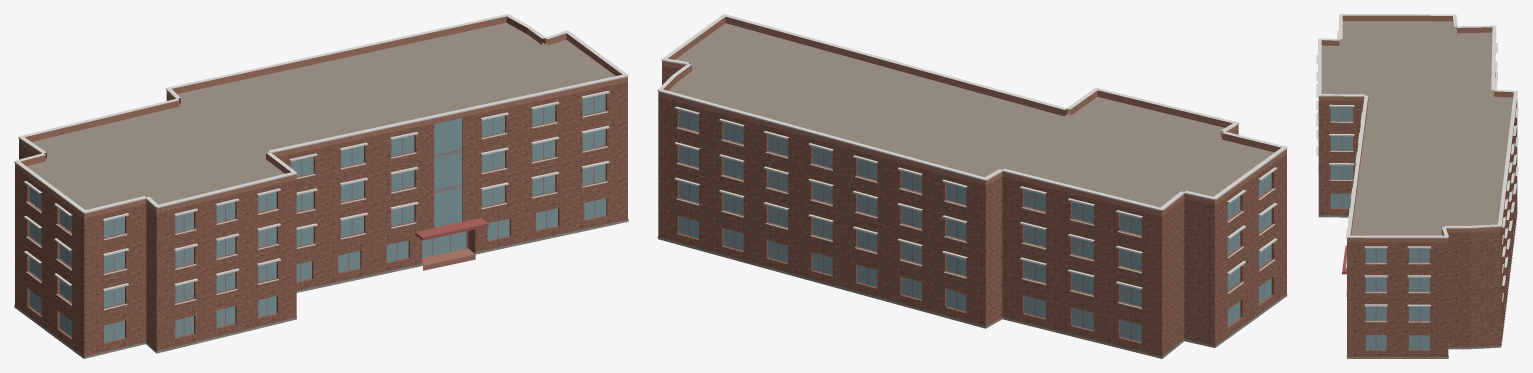
The picture shows the model from 3 angles, left to right: view 1: azimuth 30°, elevation 25°; view 2: azimuth 150°, elevation 25°; view 3: azimuth 270°, elevation 25°; orthographic projection. The views are drawn at different scales.
Visible parts, largest first — view 1: osm136240952__wall, osm136240952__roof, osm136240952__glass, osm136240952__trim, osm136240952__parapet, osm136240952__base, osm136240952__frame, osm136240952__canopy, osm136240952__entranceThreshold_0; view 2: osm136240952__wall, osm136240952__roof, osm136240952__glass, osm136240952__trim, osm136240952__parapet, osm136240952__base, osm136240952__frame; view 3: osm136240952__roof, osm136240952__wall, osm136240952__trim, osm136240952__glass, osm136240952__parapet, osm136240952__base, osm136240952__frame.
Part boxes in pixels (x1,y1,x2,y2): osm136240952__wall: [15, 82, 627, 358]; osm136240952__roof: [27, 23, 615, 353]; osm136240952__glass: [29, 94, 606, 342]; osm136240952__trim: [14, 14, 628, 310]; osm136240952__parapet: [15, 16, 627, 218]; osm136240952__base: [14, 219, 628, 358]; osm136240952__frame: [36, 96, 595, 340]; osm136240952__canopy: [415, 218, 488, 240]; osm136240952__entranceThreshold_0: [422, 248, 475, 270]; osm136240952__wall: [658, 66, 1286, 358]; osm136240952__roof: [668, 23, 1274, 358]; osm136240952__glass: [679, 110, 1271, 341]; osm136240952__trim: [657, 14, 1287, 309]; osm136240952__parapet: [658, 16, 1286, 216]; osm136240952__base: [657, 236, 1287, 358]; osm136240952__frame: [689, 113, 1264, 339]; osm136240952__roof: [1321, 21, 1512, 235]; osm136240952__wall: [1318, 72, 1517, 356]; osm136240952__trim: [1316, 14, 1518, 322]; osm136240952__glass: [1330, 107, 1429, 349]; osm136240952__parapet: [1318, 15, 1513, 242]; osm136240952__base: [1318, 213, 1517, 358]; osm136240952__frame: [1341, 107, 1419, 349].
Bounding box in the file's own units: 49.67 × 12.95 × 18.92.
Materials: 10 (2 with a texture image).
